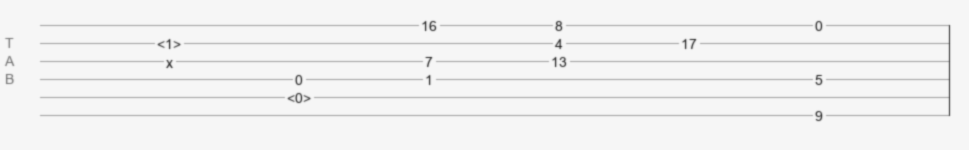0: (295, 72, 303, 82), (815, 18, 823, 28)
1: (425, 72, 433, 82)
13: (551, 54, 567, 64)
16: (421, 18, 437, 28)
17: (681, 36, 697, 46)
4: (555, 36, 563, 46)
5: (815, 72, 823, 82)
7: (425, 54, 433, 64)
8: (555, 18, 563, 28)
9: (815, 108, 823, 118)
harmonic: (157, 36, 181, 46), (287, 90, 311, 100)
x: (166, 55, 173, 63)
